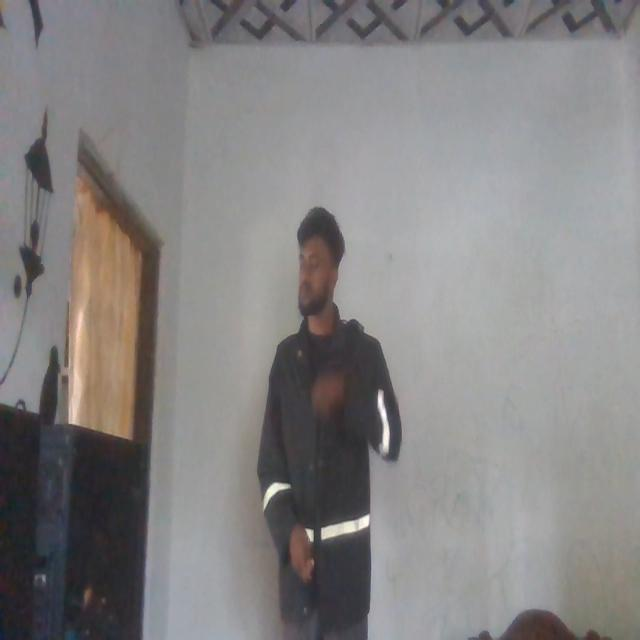Jacket_Wearer: (251, 301, 407, 618)
Person: (253, 201, 407, 640)
